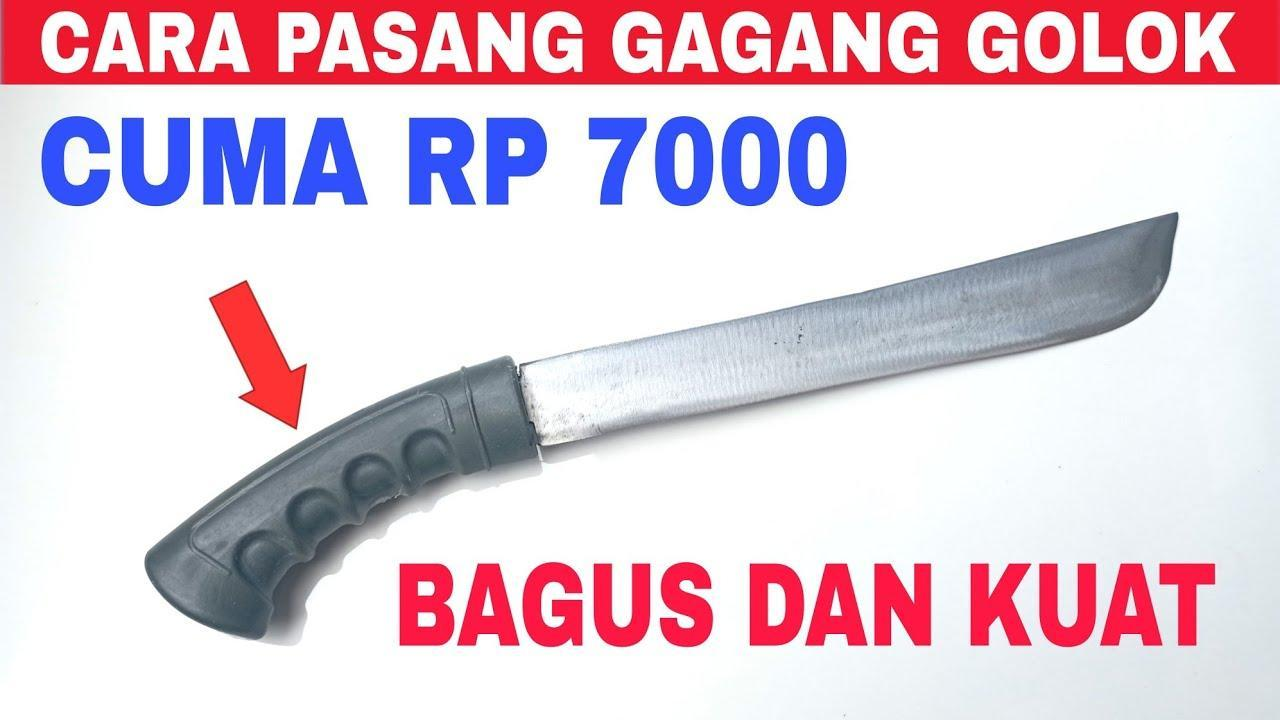facao: (145, 214, 1177, 637)
